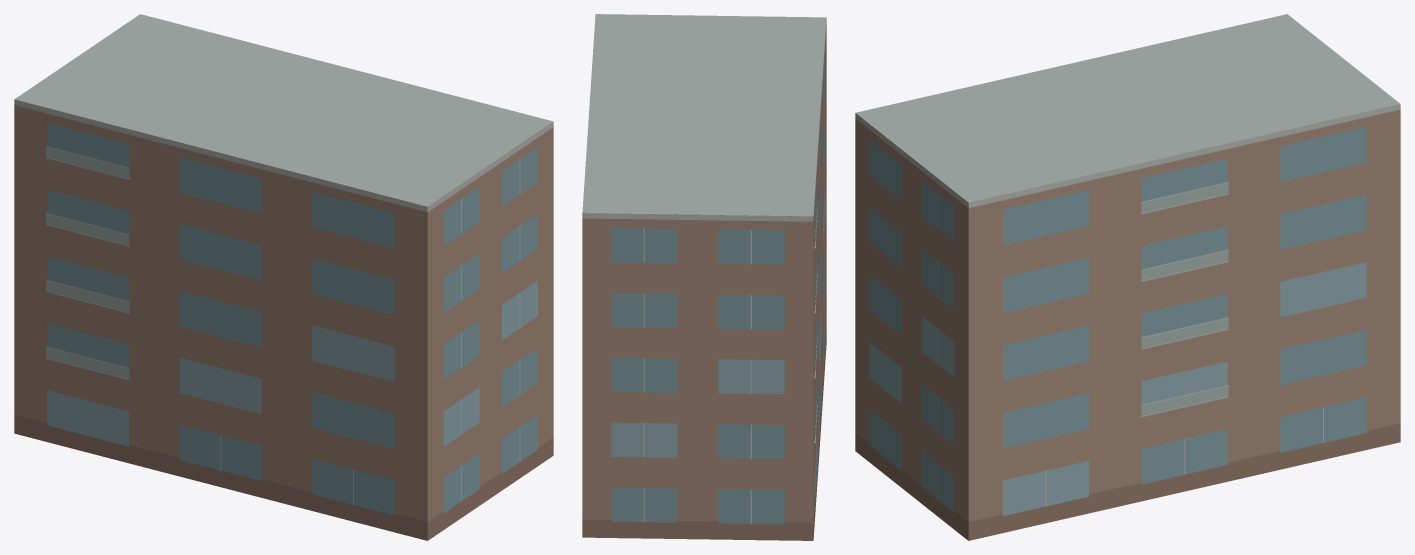
File: survey-upis-32991107.glb
3 views of the same model, side by side, from view 1: azimuth 30°, elevation 25°; view 2: azimuth 150°, elevation 25°; view 3: azimuth 270°, elevation 25° (orthographic). The views are drawn at different scales.
Parts seen in each view (by area): view 1: survey-upis-32991107.tmp; view 2: survey-upis-32991107.tmp; view 3: survey-upis-32991107.tmp.
Boxes of the visible parts, <box> form: survey-upis-32991107.tmp: <box>14,14,553,540</box>; survey-upis-32991107.tmp: <box>582,14,826,540</box>; survey-upis-32991107.tmp: <box>855,14,1400,540</box>.
Bounding box in the file's own units: 17.59 × 14.7 × 21.49.
